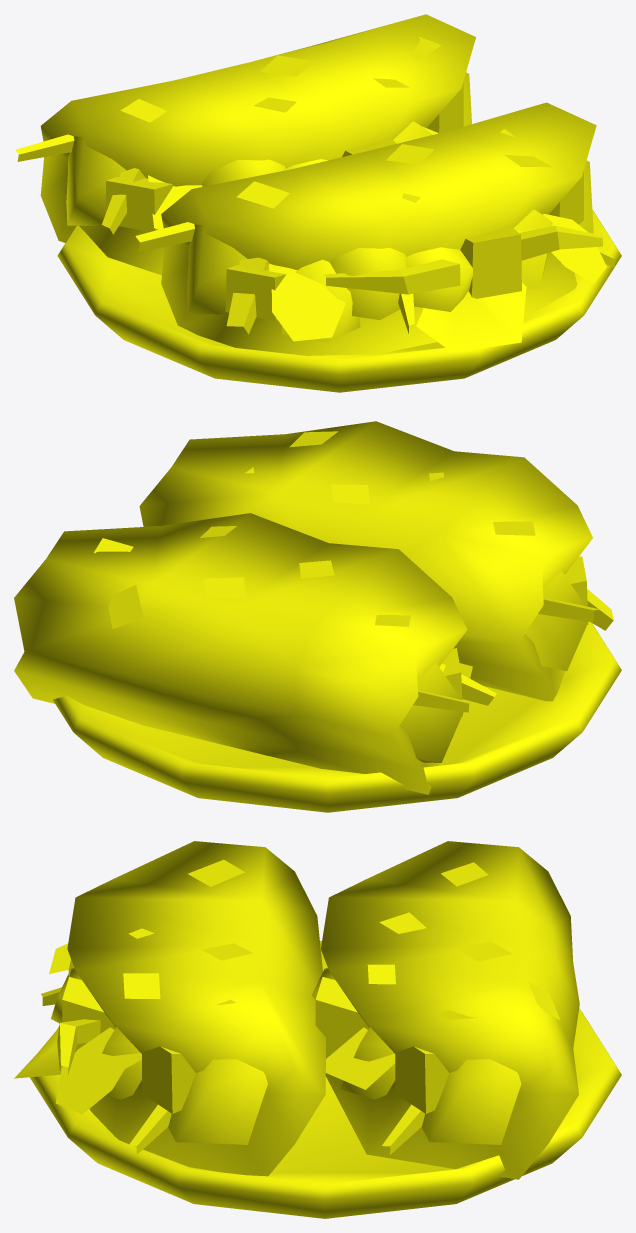
The model's file is 45_Food_Model.gltf.
3 views of the same model, one above another, from view 1: azimuth 30°, elevation 25°; view 2: azimuth 150°, elevation 25°; view 3: azimuth 270°, elevation 25° (orthographic). The views are drawn at different scales.
Parts seen in each view (by area): view 1: 45_Food_Model; view 2: 45_Food_Model; view 3: 45_Food_Model.
Boxes of the visible parts, x1=… form: 45_Food_Model: x1=15, y1=14, x2=621, y2=392; 45_Food_Model: x1=14, y1=421, x2=621, y2=812; 45_Food_Model: x1=14, y1=841, x2=621, y2=1218.
Bounding box in the file's own units: 1.44 × 0.4771 × 1.47.
1 material, 1 textured.
